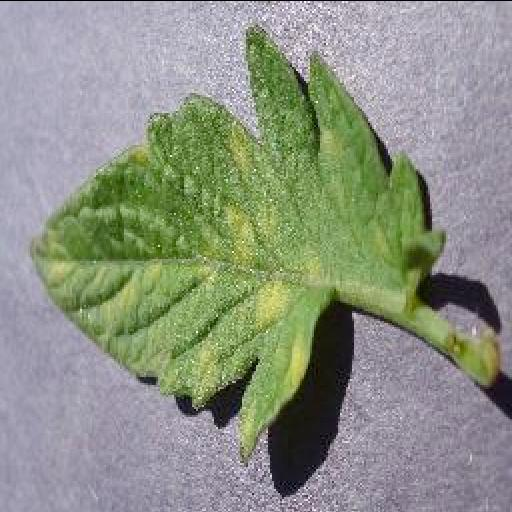disease_tomato: (25, 26, 447, 468)
